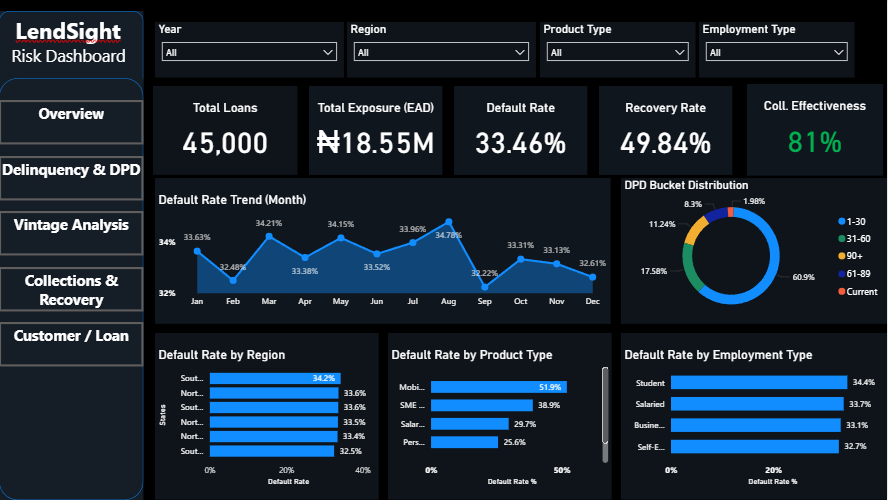

Layout of this report page (visuals, bound fields, positions):
{"tool":"powerbi","page":{"name":"Executive Overview","canvas":[1280,720],"ordinal":0},"visuals":[{"type":"pageNavigator","box":[0,192,208,64],"z":0},{"type":"card","title":"Total Loans","fields":{"Values":["cr_measures.Total Loan"]},"box":[221.8,123.5,208,128],"z":1000},{"type":"card","title":"Total Exposure (EAD)","fields":{"Values":["cr_measures.Total EAD"]},"box":[446.4,123.5,192,128],"z":2000},{"type":"card","title":"Default Rate","fields":{"Values":["cr_measures.Default Rate"]},"box":[655.1,123.5,192,128],"z":3000},{"type":"card","title":"Recovery Rate","fields":{"Values":["cr_measures.Recovery Rate"]},"box":[864,123.5,192,128],"z":4000},{"type":"card","title":"Coll. Effectiveness","fields":{"Values":["cr_measures.Collection Effectiveness"]},"box":[1077.8,121.3,195.8,132.5],"z":5000},{"type":"slicer","title":"Year","fields":{"Values":["Calender.Year"]},"box":[224,32,272,80],"z":6000},{"type":"slicer","title":"Product Type","fields":{"Values":["credit_risk.product_type"]},"box":[778.7,32,224,80],"z":7000},{"type":"slicer","title":"Employment Type","fields":{"Values":["credit_risk.employment_type"]},"box":[1008,32,224,80],"z":8000},{"type":"areaChart","title":"Default Rate Trend (Month)","fields":{"Y":["cr_measures.Default Rate"],"Category":["Calender.Month_name"]},"box":[224,256,656,210],"z":9000},{"type":"barChart","title":"Default Rate by Region","fields":{"Y":["cr_measures.Default Rate"],"Category":["credit_risk.region"]},"box":[224,480,322,240],"z":10000},{"type":"donutChart","title":"DPD Bucket Distribution","fields":{"Category":["credit_risk.dpd_bucket"],"Y":["CountNonNull(credit_risk.dpd_bucket)"]},"box":[896,256,384,210],"z":11000},{"type":"barChart","title":"Default Rate by Product Type","fields":{"Category":["credit_risk.product_type"],"Y":["cr_measures.Default Rate"]},"box":[560,480,322,240],"z":12000},{"type":"shape","box":[0,16,208,112],"z":13000},{"type":"shape","box":[0,112,208,608],"z":14000},{"type":"textbox","box":[0,16,208,96],"z":15000},{"type":"actionButton","box":[0,224,208,64],"z":16000},{"type":"actionButton","box":[0,304,208,64],"z":17000},{"type":"actionButton","box":[0,384,208,64],"z":18000},{"type":"actionButton","box":[0,464,208,64],"z":19000},{"type":"actionButton","box":[0,144,208,64],"z":20000},{"type":"slicer","title":"Region","fields":{"Values":["credit_risk.region"]},"box":[501.3,32,272,80],"z":21000},{"type":"barChart","title":"Default Rate by Employment Type","fields":{"Y":["cr_measures.Default Rate"],"Category":["credit_risk.employment_type"]},"box":[896,480,384,240],"z":22000}]}

Visuals, with their boxes in screenshot pixels (x1, y1, x2, y2), scaled from the page's 1280x720 canvas onto the 888x500 screenshot:
pageNavigator: (0, 133, 144, 178)
"Total Loans" card: (154, 86, 298, 175)
"Total Exposure (EAD)" card: (310, 86, 443, 175)
"Default Rate" card: (454, 86, 588, 175)
"Recovery Rate" card: (599, 86, 733, 175)
"Coll. Effectiveness" card: (748, 84, 884, 176)
"Year" slicer: (155, 22, 344, 78)
"Product Type" slicer: (540, 22, 696, 78)
"Employment Type" slicer: (699, 22, 855, 78)
"Default Rate Trend (Month)" areaChart: (155, 178, 610, 324)
"Default Rate by Region" barChart: (155, 333, 379, 499)
"DPD Bucket Distribution" donutChart: (622, 178, 887, 324)
"Default Rate by Product Type" barChart: (388, 333, 612, 499)
shape: (0, 11, 144, 89)
shape: (0, 78, 144, 499)
textbox: (0, 11, 144, 78)
actionButton: (0, 156, 144, 200)
actionButton: (0, 211, 144, 256)
actionButton: (0, 267, 144, 311)
actionButton: (0, 322, 144, 367)
actionButton: (0, 100, 144, 144)
"Region" slicer: (348, 22, 536, 78)
"Default Rate by Employment Type" barChart: (622, 333, 887, 499)
